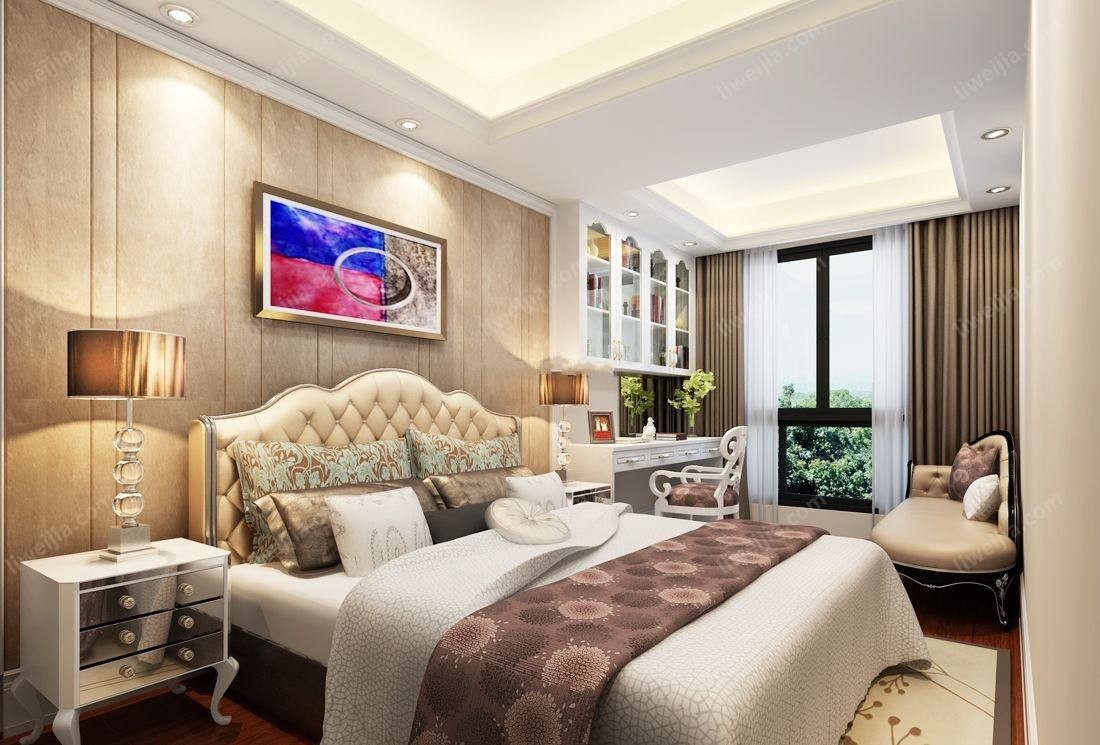床: (214, 497, 896, 740)
枕头: (215, 436, 561, 564)
灯: (65, 332, 187, 551), (539, 369, 586, 478), (165, 6, 203, 28), (976, 126, 1010, 146), (985, 180, 1013, 201), (394, 116, 420, 134), (622, 208, 643, 222), (681, 237, 700, 252)
